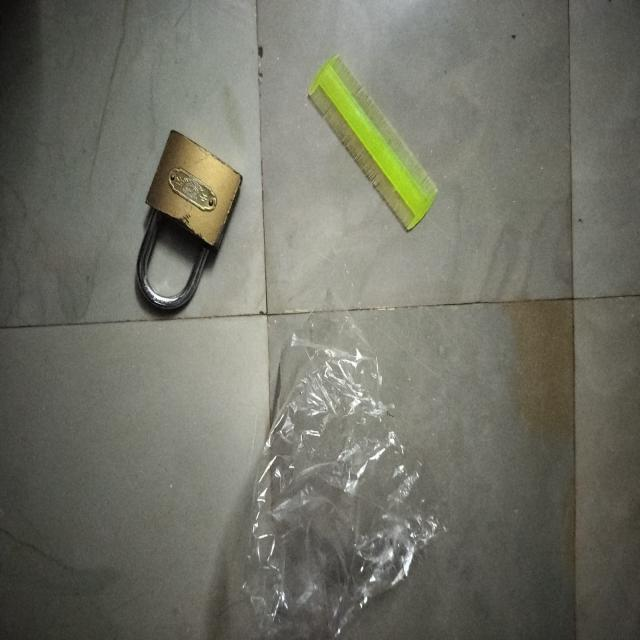metal: (134, 128, 242, 320)
plastic: (243, 286, 446, 636), (308, 51, 440, 233)
